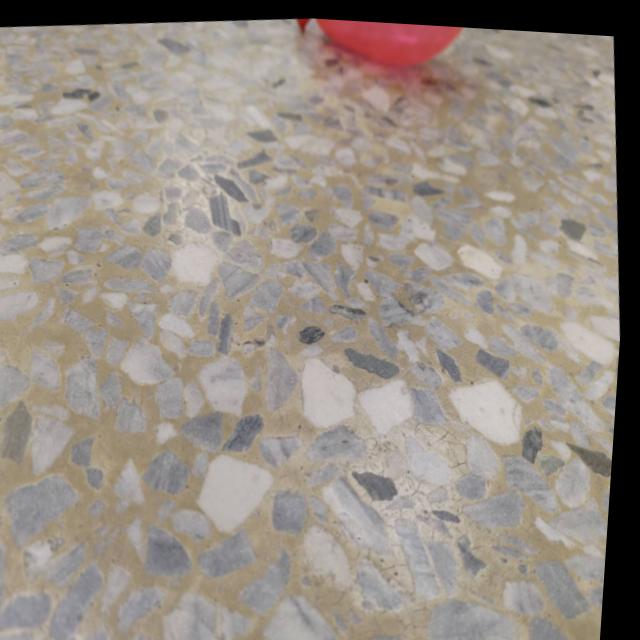red: (292, 14, 480, 74)
